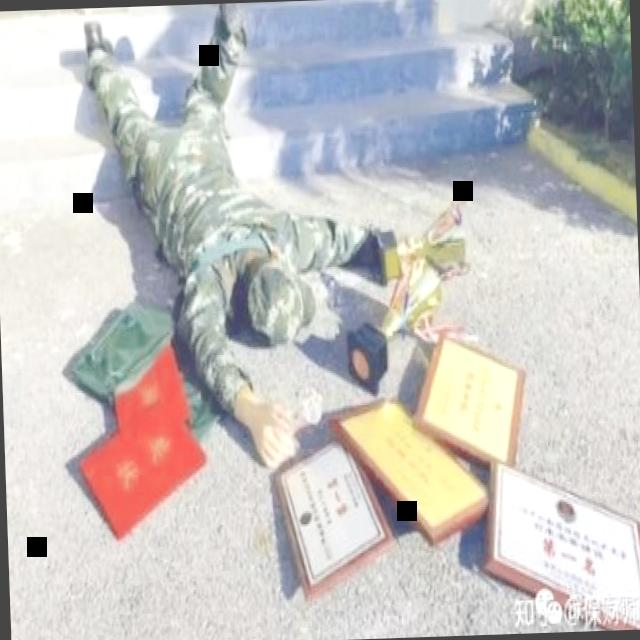Fall-Detected: (54, 0, 460, 471)
